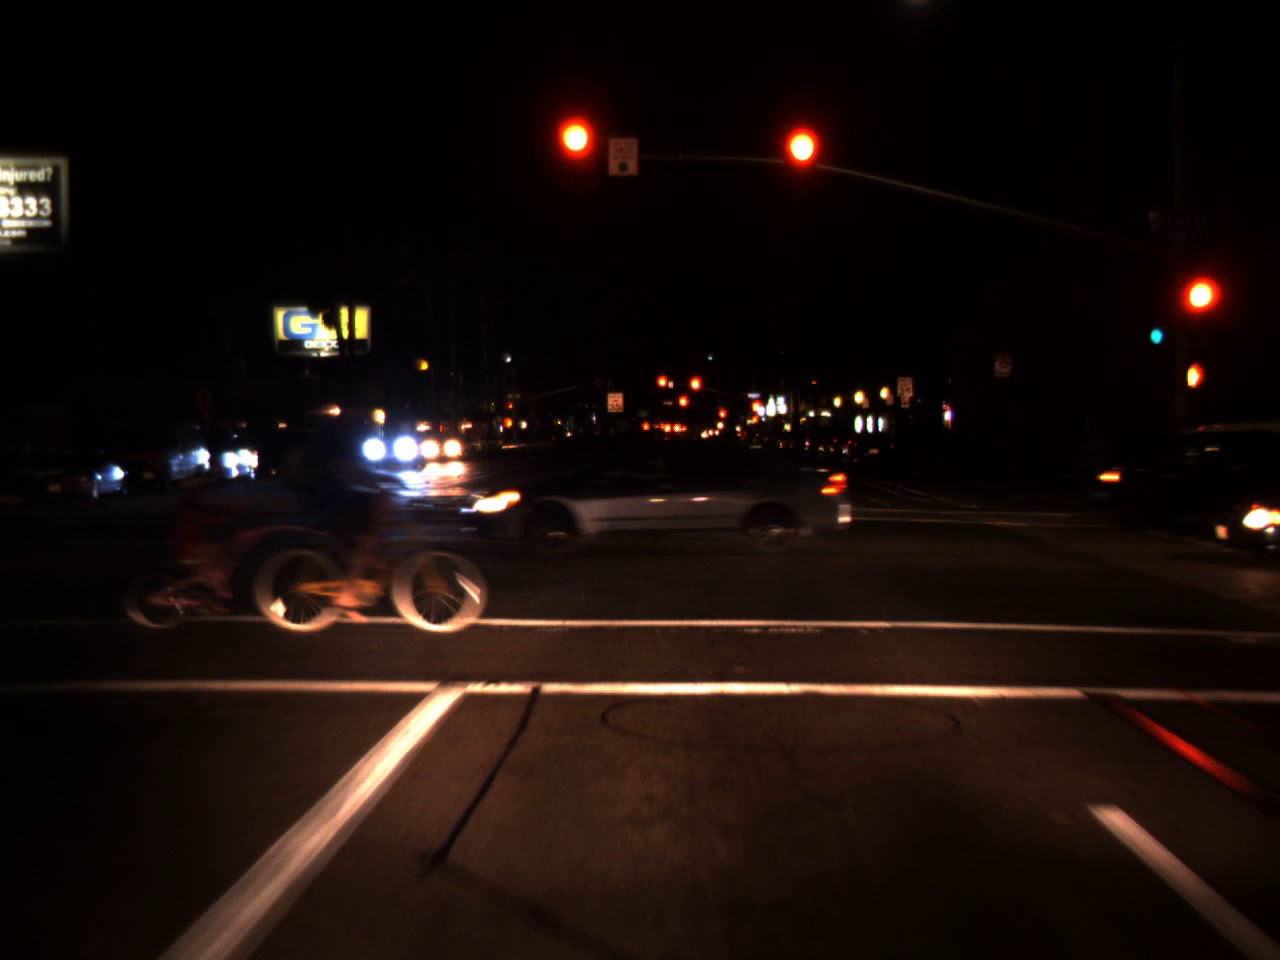stop: (780, 127, 819, 205), (1176, 276, 1219, 348), (558, 118, 594, 193), (688, 375, 703, 407), (654, 373, 670, 402), (749, 399, 764, 419), (677, 394, 689, 418), (717, 408, 727, 429), (507, 403, 513, 413)
